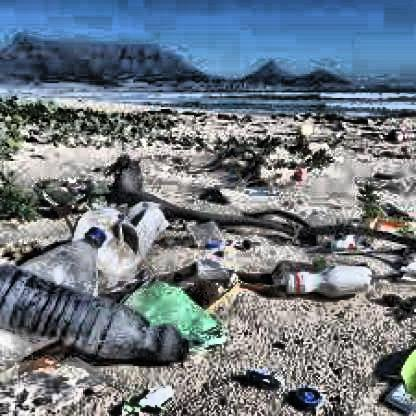Plastic wastes: (0, 264, 192, 371), (29, 229, 112, 291), (272, 261, 378, 302)
